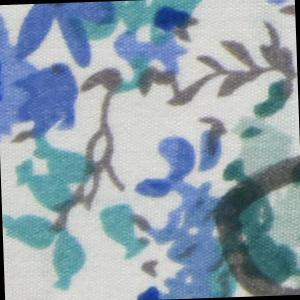Stain: (206, 152, 300, 299)
